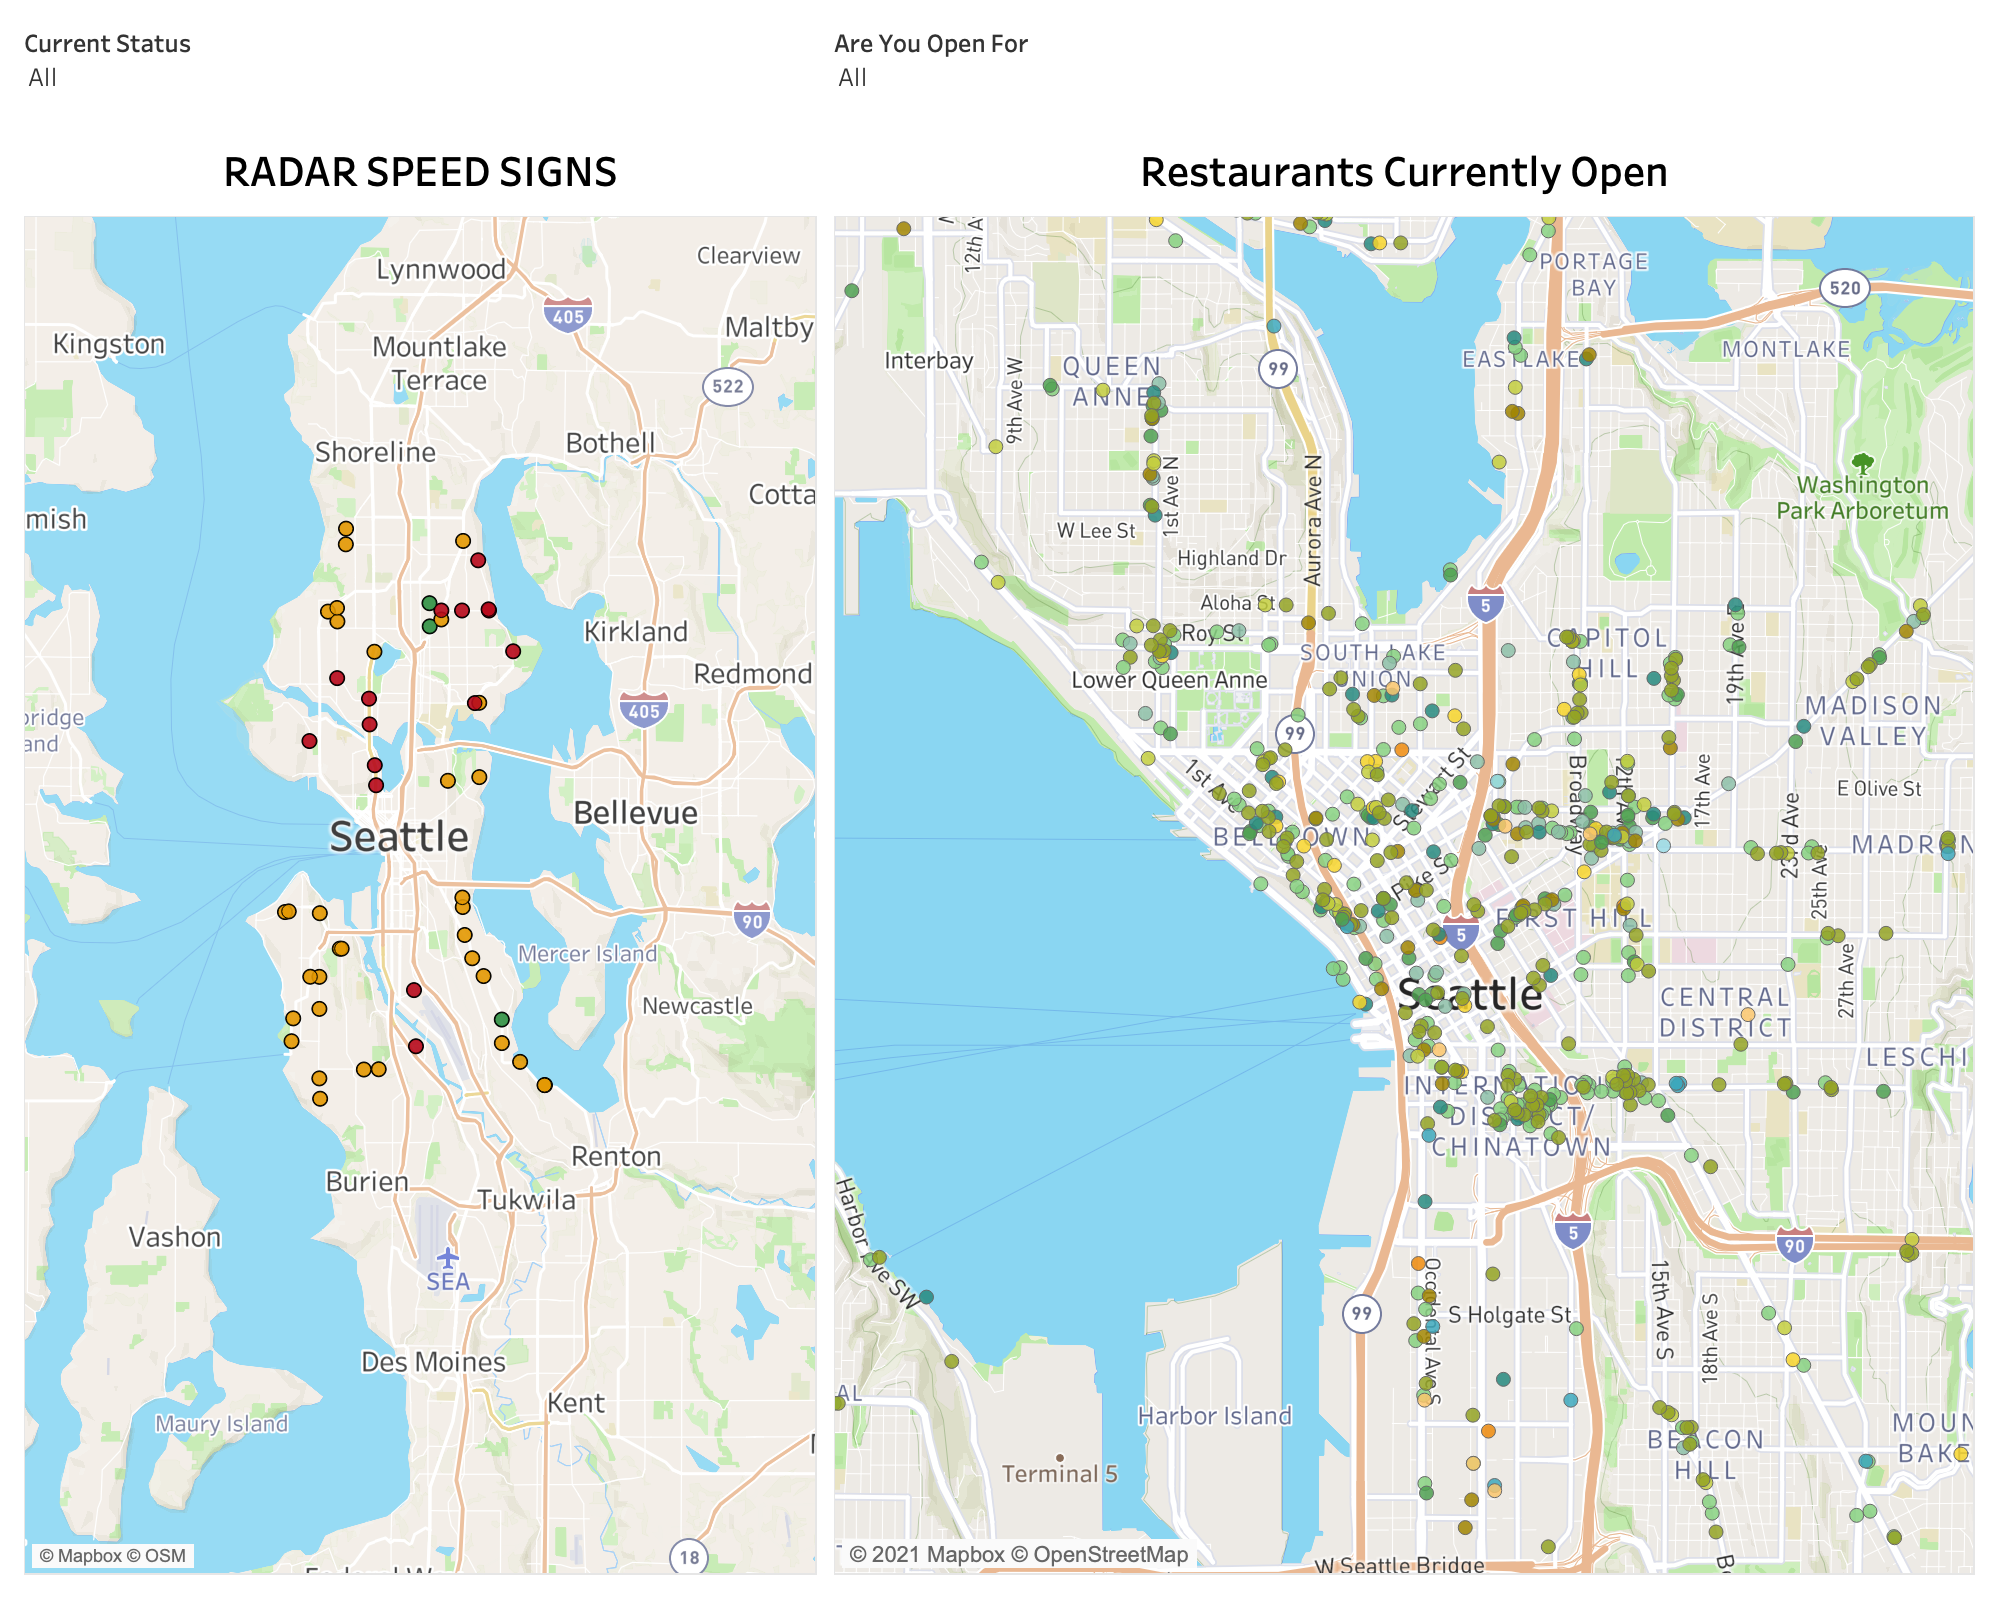

The dashboard page shown, as its layout file describes it:
{"tool":"tableau","page":{"name":"Map Example Features","canvas":[1000,800],"ordinal":0},"visuals":[{"type":"filter","title":"Radar Sign","param":"[federated.0hkag2k1fsjokd1exyx6p00w30mz].[none:CURRENT_STATUS:nk]","box":[8,8,405,53]},{"type":"filter","title":"Restaurants","param":"[federated.0hkag2k1fsjokd1exyx6p00w30mz].[none:are_you_open_for:nk]","box":[413,8,579,52]},{"type":"worksheet","title":"Radar Sign","mark":"Multipolygon","rows":["SHAPE_LAT"],"cols":["SHAPE_LNG"],"box":[8,61,404.8,731]},{"type":"worksheet","title":"Restaurants","mark":"Multipolygon","rows":["Y (Restaurants_Operating_during_COVID19.csv)"],"cols":["X (Restaurants_Operating_during_COVID19.csv)"],"box":[412.8,61,579.2,731]}]}

Visuals, with their boxes in screenshot pixels (x1, y1, x2, y2), scaled from the page's 1000x800 canvas onto the 2000x1600 screenshot:
"Radar Sign" filter: detection(16, 16, 826, 122)
"Restaurants" filter: detection(826, 16, 1984, 120)
"Radar Sign" worksheet (Multipolygon marks): detection(16, 122, 826, 1584)
"Restaurants" worksheet (Multipolygon marks): detection(826, 122, 1984, 1584)
